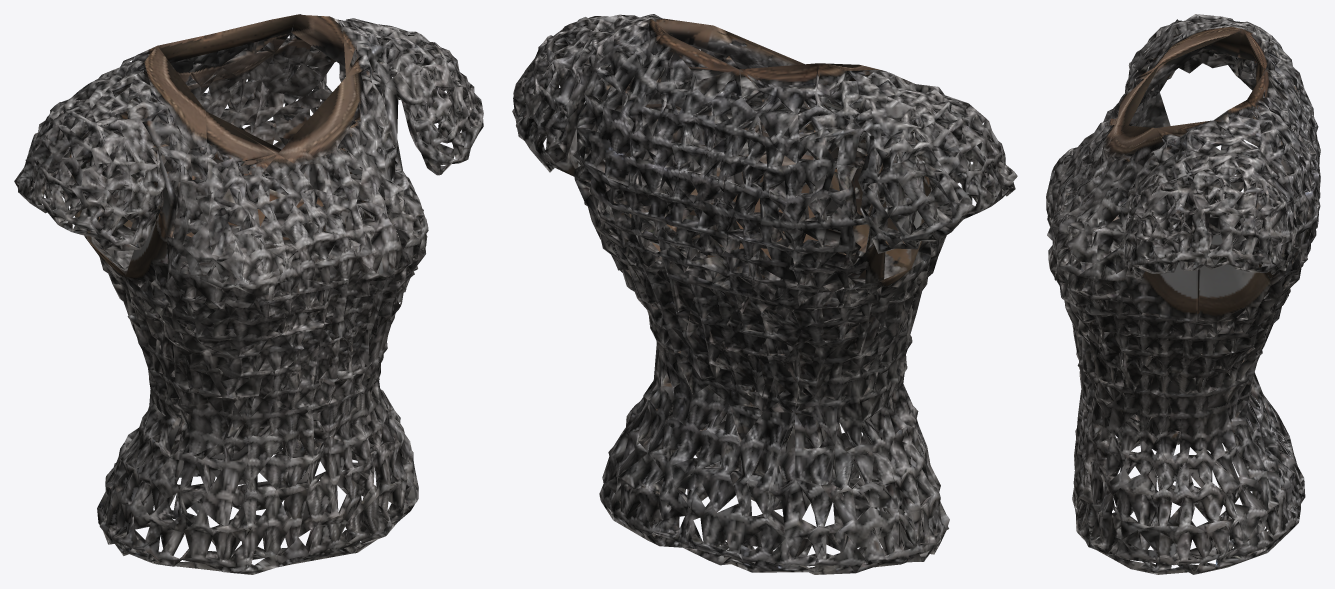
File: Prop_Armor_Mail.fbx
3 renders of one model, left to right at view 1: azimuth 30°, elevation 25°; view 2: azimuth 150°, elevation 25°; view 3: azimuth 270°, elevation 25°, orthographic. The views are drawn at different scales.
Visible parts, largest first — view 1: texture_mapping; view 2: texture_mapping; view 3: texture_mapping.
Boxes of the visible parts, x1,y1,x2,y2 form: texture_mapping: (14,14,483,574); texture_mapping: (512,14,1017,574); texture_mapping: (1046,14,1320,574).
Size of the model in its own units: 0.9553 by 0.5386 by 0.9857.
Materials: 1 (1 with a texture image).
